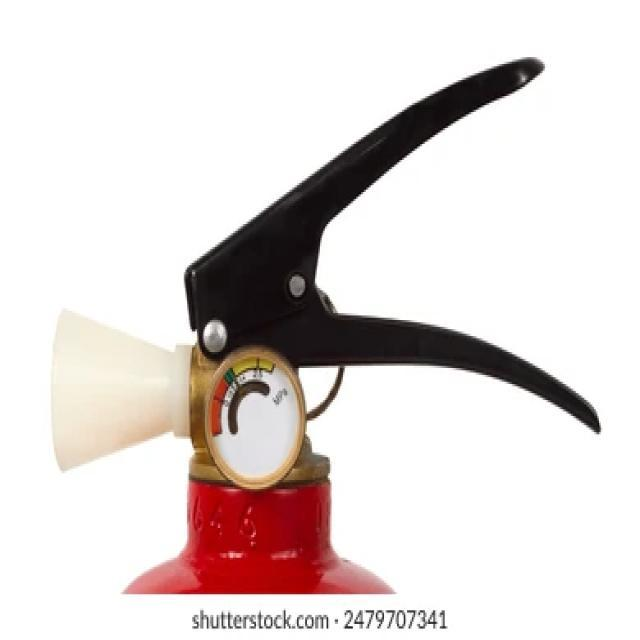pressure gauge: (205, 347, 304, 488)
